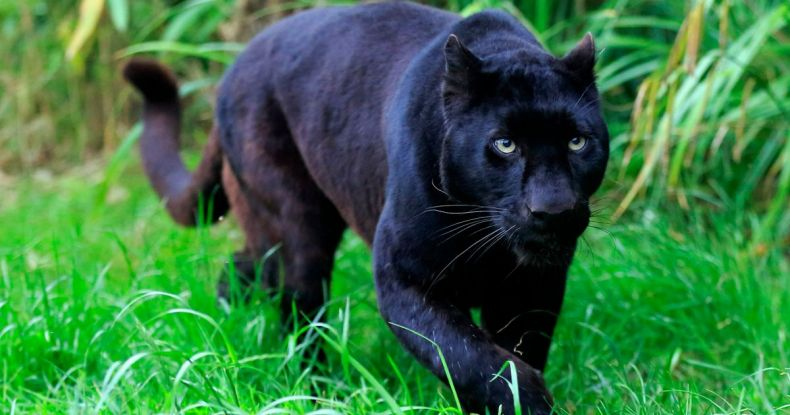panther: (124, 4, 616, 415)
